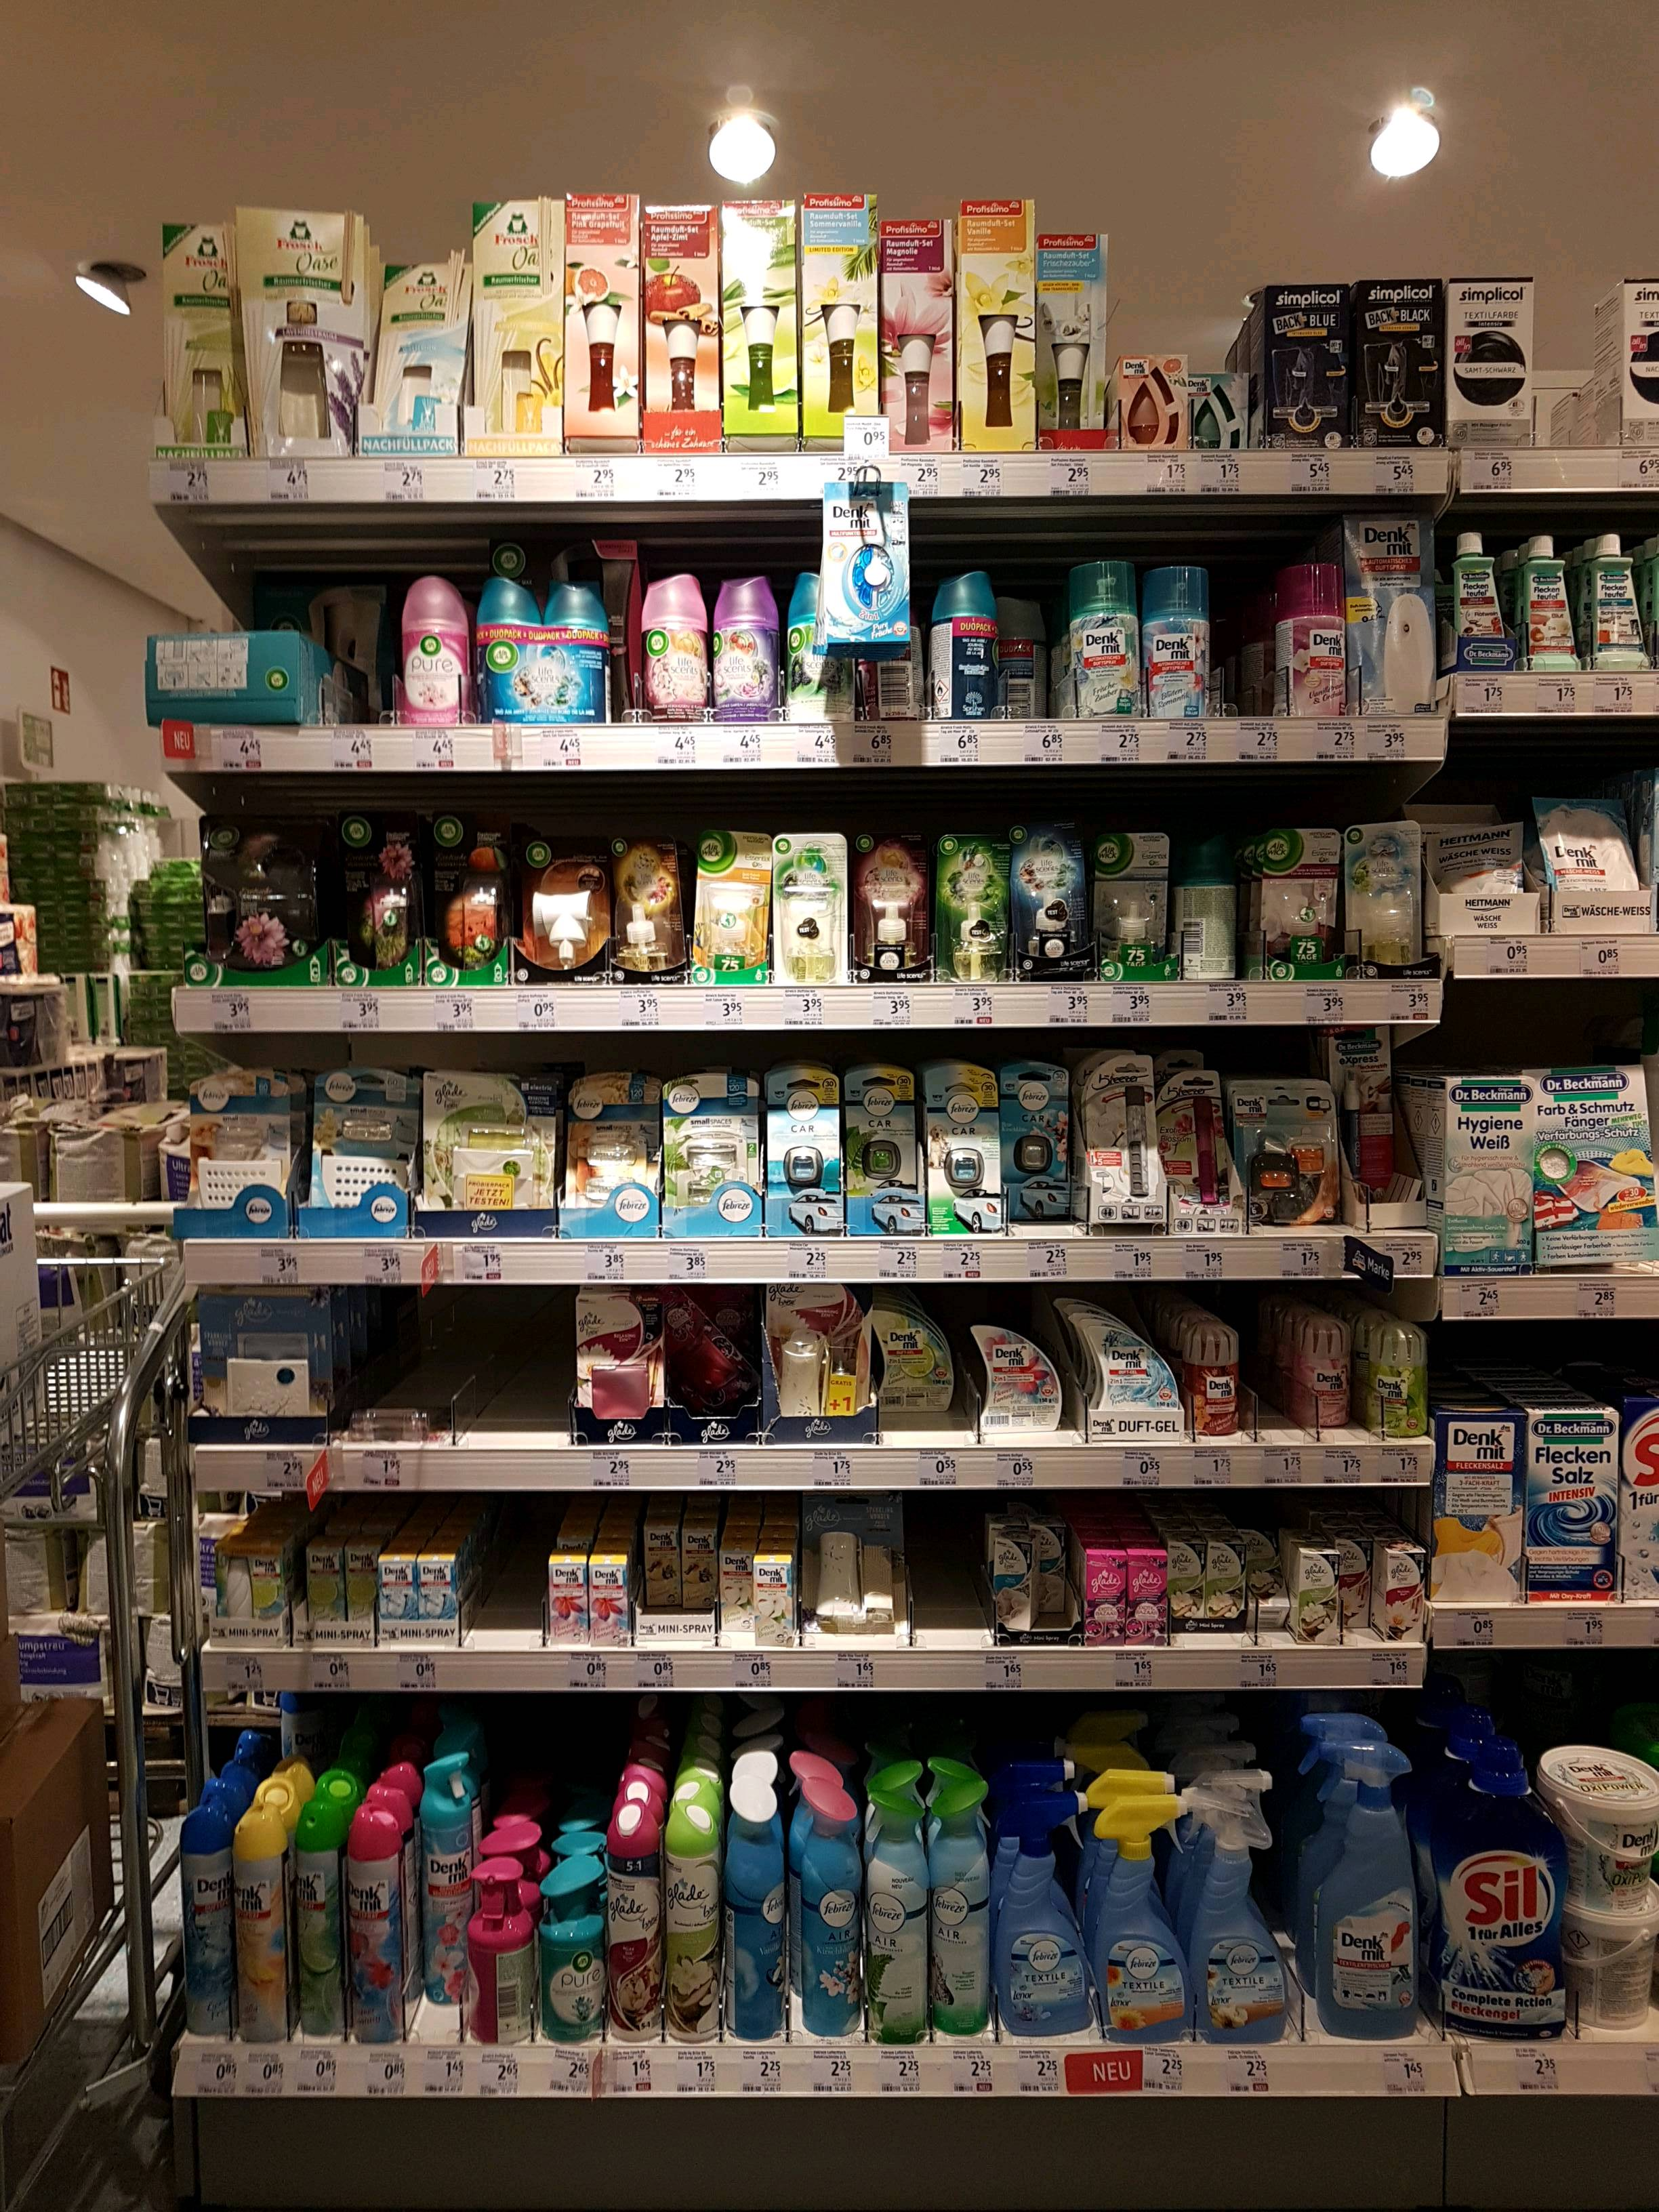Misplacement: (877, 1285, 981, 1453)
Out-of-stock: (455, 1285, 573, 1446)
